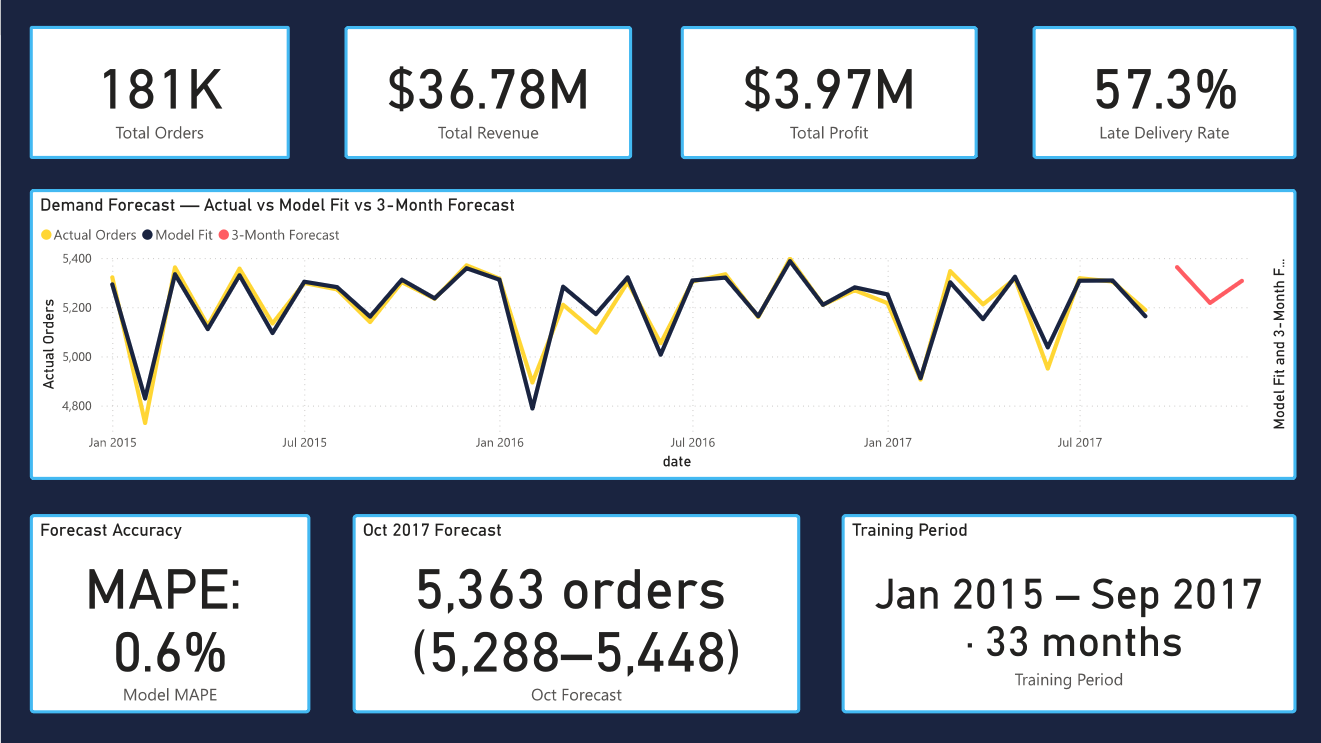

This screenshot's page, from the dashboard's own definition file:
{"tool":"powerbi","page":{"name":"Forecast","canvas":[1280,720],"ordinal":2},"visuals":[{"type":"card","fields":{"Values":["export_customer_segment.Total Orders #"]},"box":[27.8,25.5,252.3,128.5],"z":0},{"type":"card","fields":{"Values":["export_customer_segment.Total Revenue $"]},"box":[333.3,25.5,278.9,128.5],"z":1000},{"type":"card","fields":{"Values":["export_customer_segment.Total Profit $"]},"box":[658.5,25.5,288.2,128.5],"z":2000},{"type":"card","fields":{"Values":["export_customer_segment.Late Delivery Rate"]},"box":[999.9,25.5,255.8,128.5],"z":3000},{"type":"lineChart","title":"Demand Forecast — Actual vs Model Fit vs 3-Month Forecast","fields":{"Category":["forecast_combined.date"],"Y":["Sum(forecast_combined.actual_orders)"],"Y2":["Sum(forecast_combined.model_fit)","Sum(forecast_combined.forecast_orders)"]},"box":[27.8,182.9,1227.9,282.4],"z":4000},{"type":"card","title":"Forecast Accuracy","fields":{"Values":["forecast_combined.Model MAPE"]},"box":[27.8,497.6,272,193.3],"z":5000},{"type":"card","title":"Oct 2017 Forecast","fields":{"Values":["forecast_combined.Oct Forecast"]},"box":[341.4,497.6,434,193.3],"z":6000},{"type":"card","title":"Training Period","fields":{"Values":["forecast_combined.Training Period"]},"box":[814.8,497.6,440.9,193.3],"z":7000}]}

Visuals, with their boxes in screenshot pixels (x1, y1, x2, y2), scaled from the page's 1280x720 canvas onto the 1321x743 screenshot:
card - export_customer_segment.Total Orders #: rect(29, 26, 289, 159)
card - export_customer_segment.Total Revenue $: rect(344, 26, 632, 159)
card - export_customer_segment.Total Profit $: rect(680, 26, 977, 159)
card - export_customer_segment.Late Delivery Rate: rect(1032, 26, 1296, 159)
"Demand Forecast — Actual vs Model Fit vs 3-Month Forecast" lineChart: rect(29, 189, 1296, 480)
"Forecast Accuracy" card: rect(29, 513, 309, 713)
"Oct 2017 Forecast" card: rect(352, 513, 800, 713)
"Training Period" card: rect(841, 513, 1296, 713)
